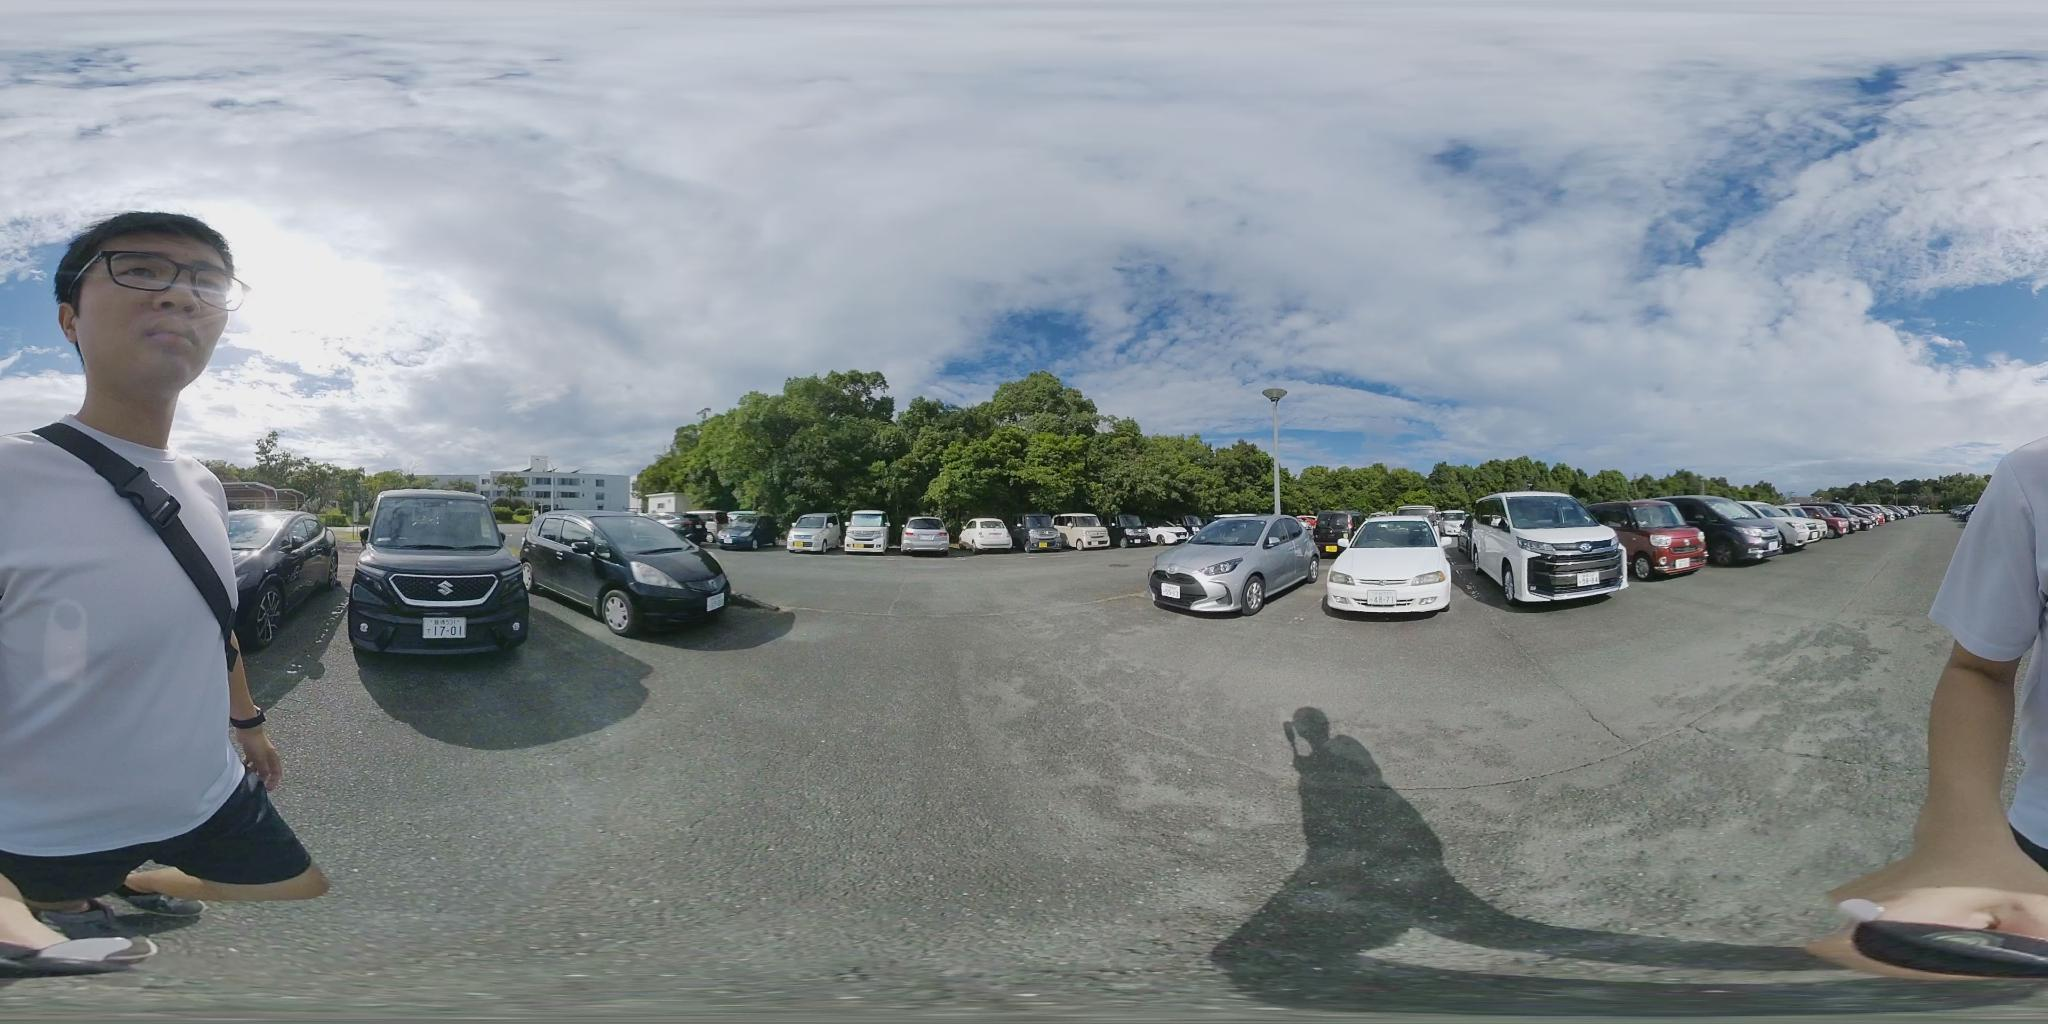car: (346, 492, 542, 658), (521, 513, 737, 635), (1149, 519, 1319, 620), (1327, 517, 1459, 619), (1590, 500, 1716, 579), (1656, 495, 1797, 563), (1728, 503, 1819, 556), (785, 516, 840, 554), (1011, 512, 1059, 554), (1055, 512, 1109, 547), (906, 517, 953, 555), (964, 519, 1016, 550)
